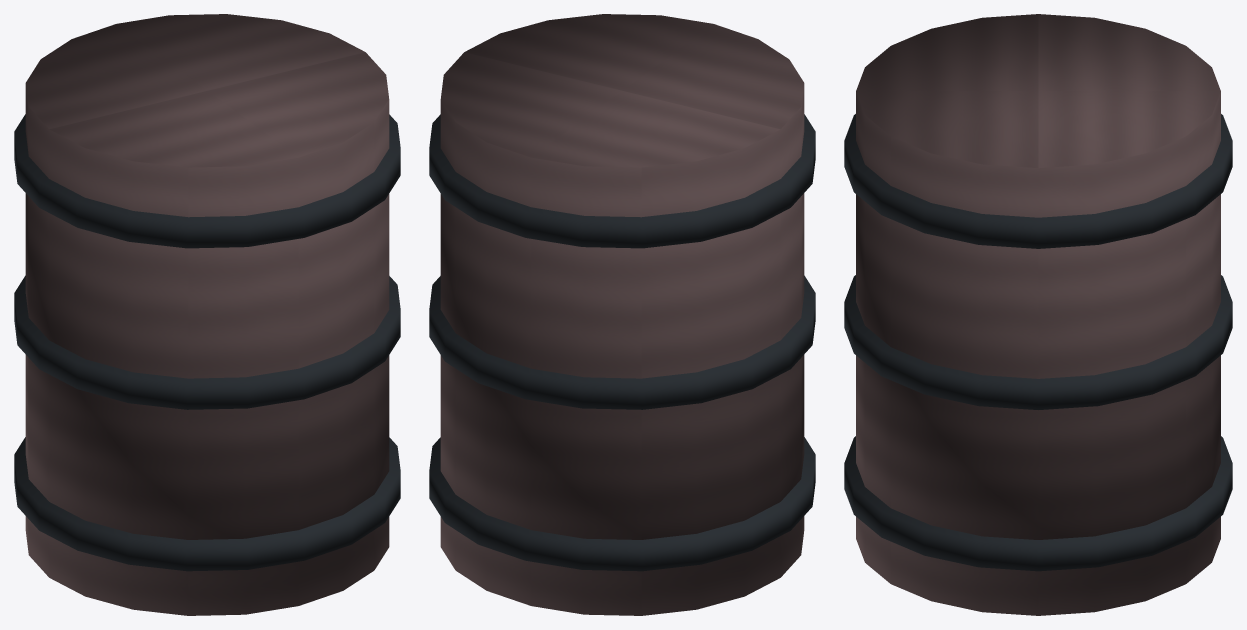
File: SM_Souq_Barrel.fbx
3 views of the same model, side by side, from view 1: azimuth 30°, elevation 25°; view 2: azimuth 150°, elevation 25°; view 3: azimuth 270°, elevation 25° (orthographic).
Parts seen in each view (by area): view 1: SM_Souq_Barrel; view 2: SM_Souq_Barrel; view 3: SM_Souq_Barrel.
Boxes of the visible parts, bbox=[...] form: SM_Souq_Barrel: bbox=[14, 14, 400, 615]; SM_Souq_Barrel: bbox=[429, 14, 815, 615]; SM_Souq_Barrel: bbox=[844, 14, 1232, 615].
Size of the model in its own units: 53.51 by 68.11 by 53.51.
Materials: 2 (2 with a texture image).
